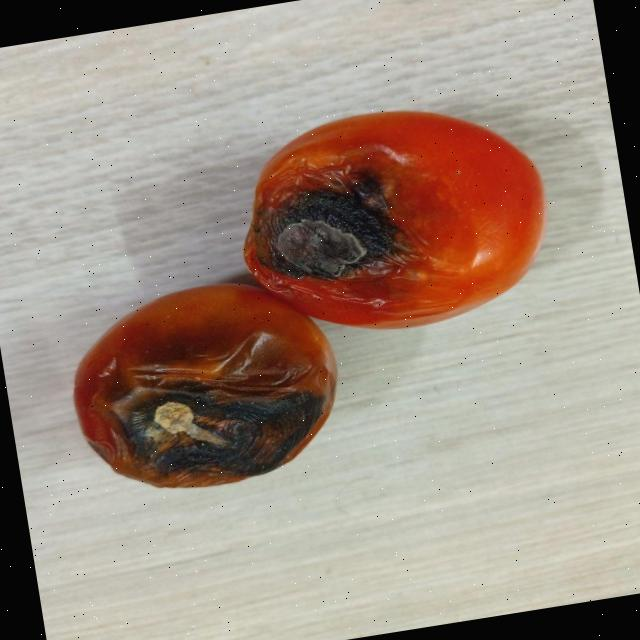Rotten: (222, 88, 559, 351), (61, 265, 352, 506)
